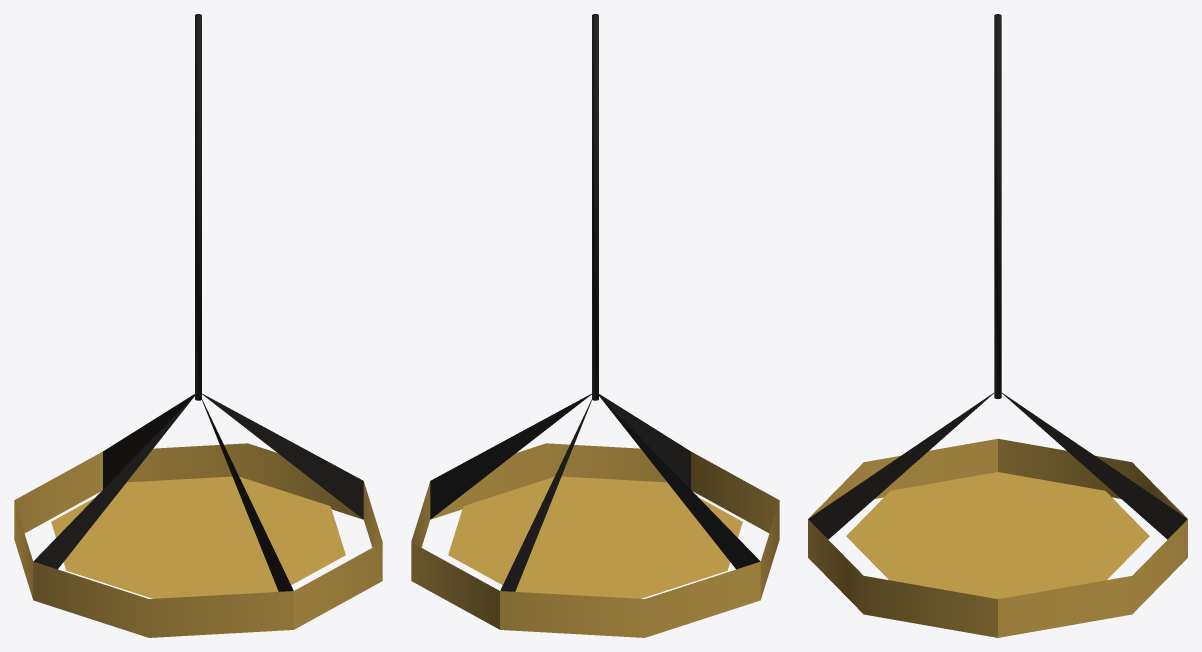
The model's file is Candelabra.fbx.
3 views of the same model, side by side, from view 1: azimuth 30°, elevation 25°; view 2: azimuth 150°, elevation 25°; view 3: azimuth 270°, elevation 25° (orthographic).
Visible parts, largest first — view 1: presOffBlackWall01001Rev.002; view 2: presOffBlackWall01001Rev.002; view 3: presOffBlackWall01001Rev.002.
Boxes of the visible parts, bbox=[...] form: presOffBlackWall01001Rev.002: bbox=[14, 14, 382, 637]; presOffBlackWall01001Rev.002: bbox=[411, 14, 779, 637]; presOffBlackWall01001Rev.002: bbox=[808, 14, 1187, 637].
Bounding box in the file's own units: 1.28 × 2.02 × 1.28.
